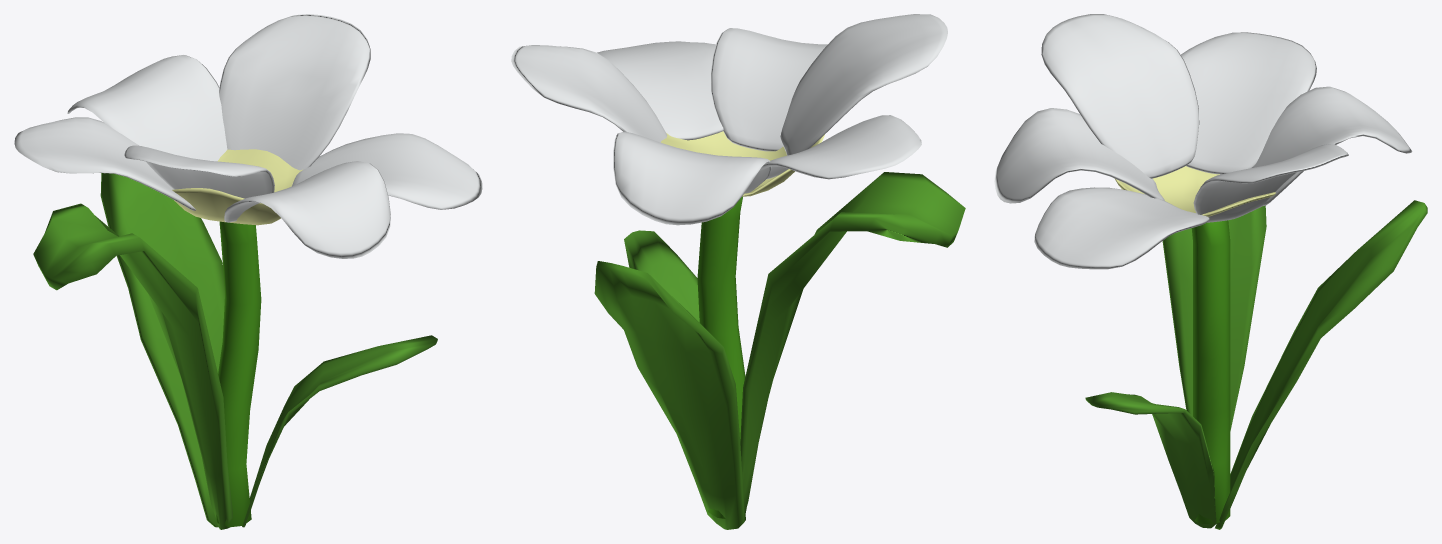
File: Viola Persicifiola1.fbx
The picture shows the model from 3 angles, left to right: view 1: azimuth 30°, elevation 25°; view 2: azimuth 150°, elevation 25°; view 3: azimuth 270°, elevation 25°; orthographic projection. The views are drawn at different scales.
Parts seen in each view (by area): view 1: Leave.003, Leave2.002; view 2: Leave.003, Leave2.002; view 3: Leave.003, Leave2.002.
Part boxes in pixels (x1,y1,x2,y2): Leave.003: (14, 14, 482, 258); Leave2.002: (33, 173, 437, 529); Leave.003: (511, 14, 947, 225); Leave2.002: (594, 172, 965, 529); Leave.003: (994, 14, 1412, 269); Leave2.002: (1085, 200, 1427, 529).
Bounding box in the file's own units: 52.8 × 58.27 × 51.41.
